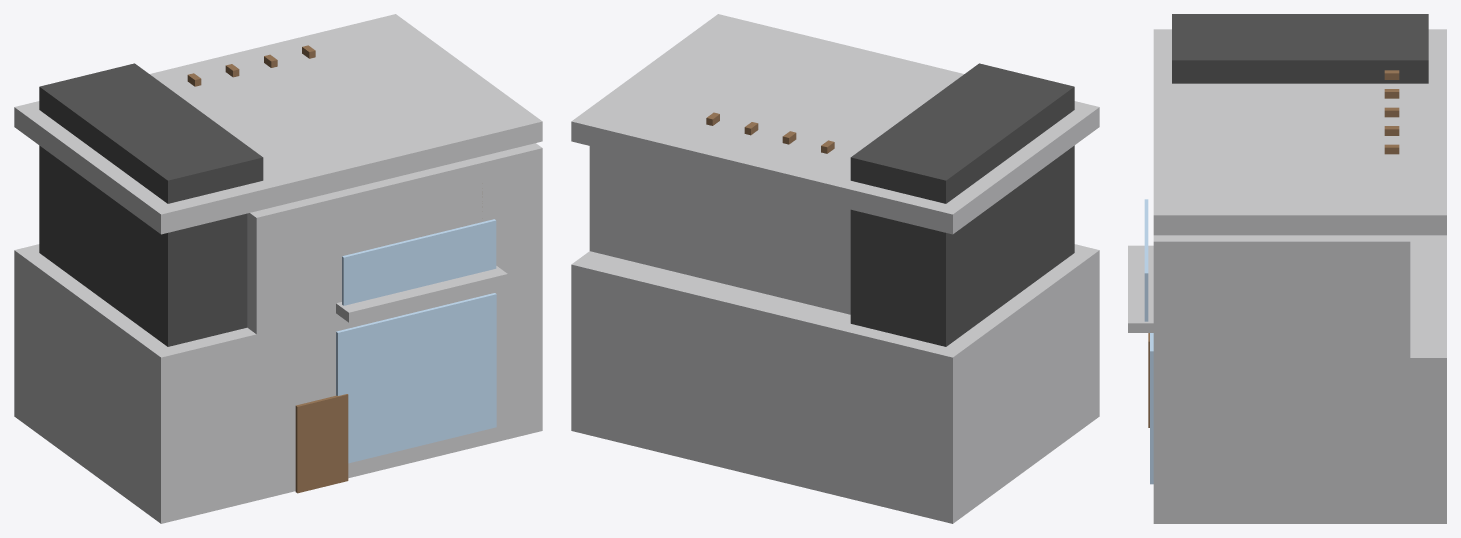
The model's file is house2.glb.
3 renders of one model, left to right at view 1: azimuth 30°, elevation 25°; view 2: azimuth 150°, elevation 25°; view 3: azimuth 270°, elevation 25°, orthographic.
Parts seen in each view (by area): view 1: GroundFloor, Roof, AccentBlock, UpperFloor, GlassFront, GlassRailing, Door, BalconyBase; view 2: GroundFloor, Roof, AccentBlock, UpperFloor; view 3: GroundFloor, Roof, UpperFloor, AccentBlock, BalconyBase, GlassRailing, GlassFront.
Boxes of the visible parts, left/top/right/bottom form: GroundFloor: left=14, top=244, right=542, bottom=523; Roof: left=14, top=14, right=542, bottom=234; AccentBlock: left=39, top=63, right=263, bottom=346; UpperFloor: left=247, top=143, right=542, bottom=383; GlassFront: left=336, top=293, right=496, bottom=463; GlassRailing: left=342, top=219, right=496, bottom=305; Door: left=295, top=394, right=348, bottom=493; BalconyBase: left=336, top=266, right=507, bottom=322; GroundFloor: left=571, top=244, right=1099, bottom=523; Roof: left=571, top=14, right=1099, bottom=234; AccentBlock: left=850, top=63, right=1074, bottom=346; UpperFloor: left=589, top=146, right=850, bottom=314; GroundFloor: left=1153, top=235, right=1446, bottom=523; Roof: left=1153, top=29, right=1446, bottom=235; UpperFloor: left=1153, top=235, right=1410, bottom=407; AccentBlock: left=1172, top=14, right=1428, bottom=83; BalconyBase: left=1128, top=245, right=1153, bottom=332; GlassRailing: left=1144, top=199, right=1148, bottom=321; GlassFront: left=1150, top=333, right=1153, bottom=484.
Bounding box in the file's own units: 12 × 10 × 8.7.
